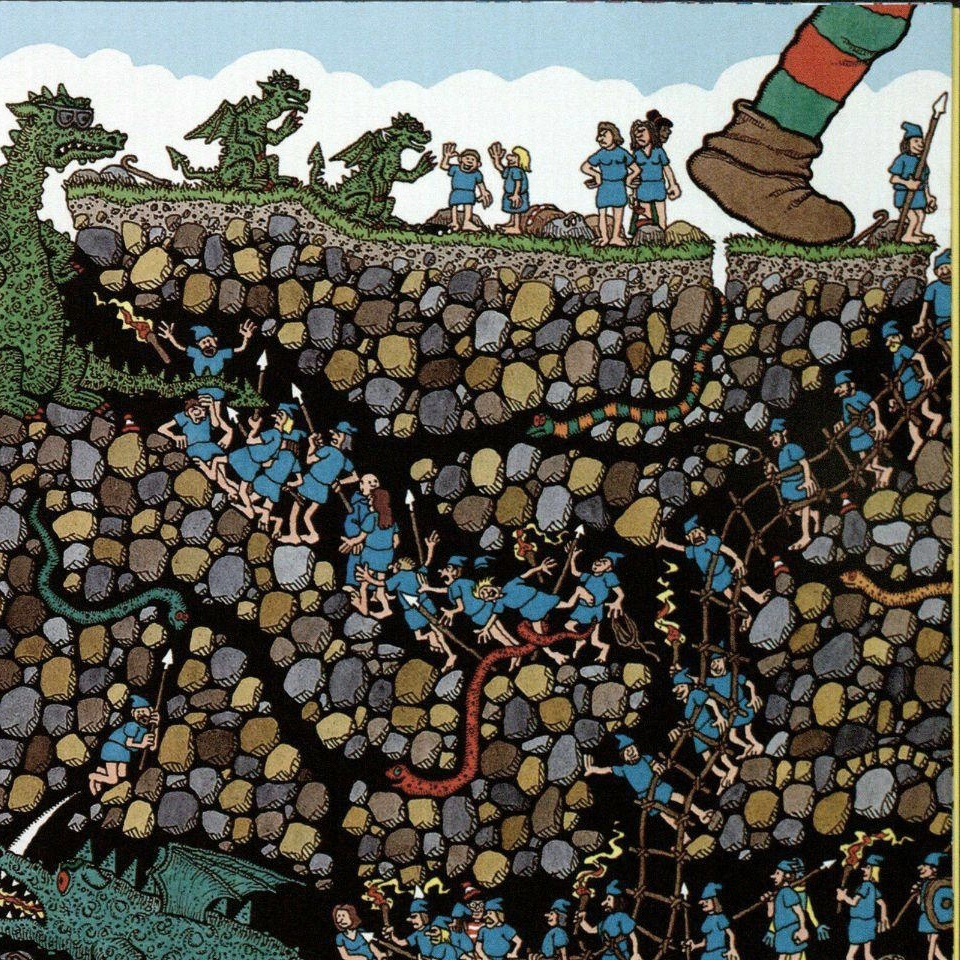waldo: (462, 882, 486, 917)
